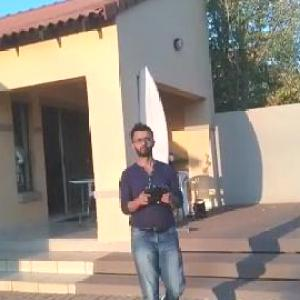follow: (117, 115, 189, 299)
